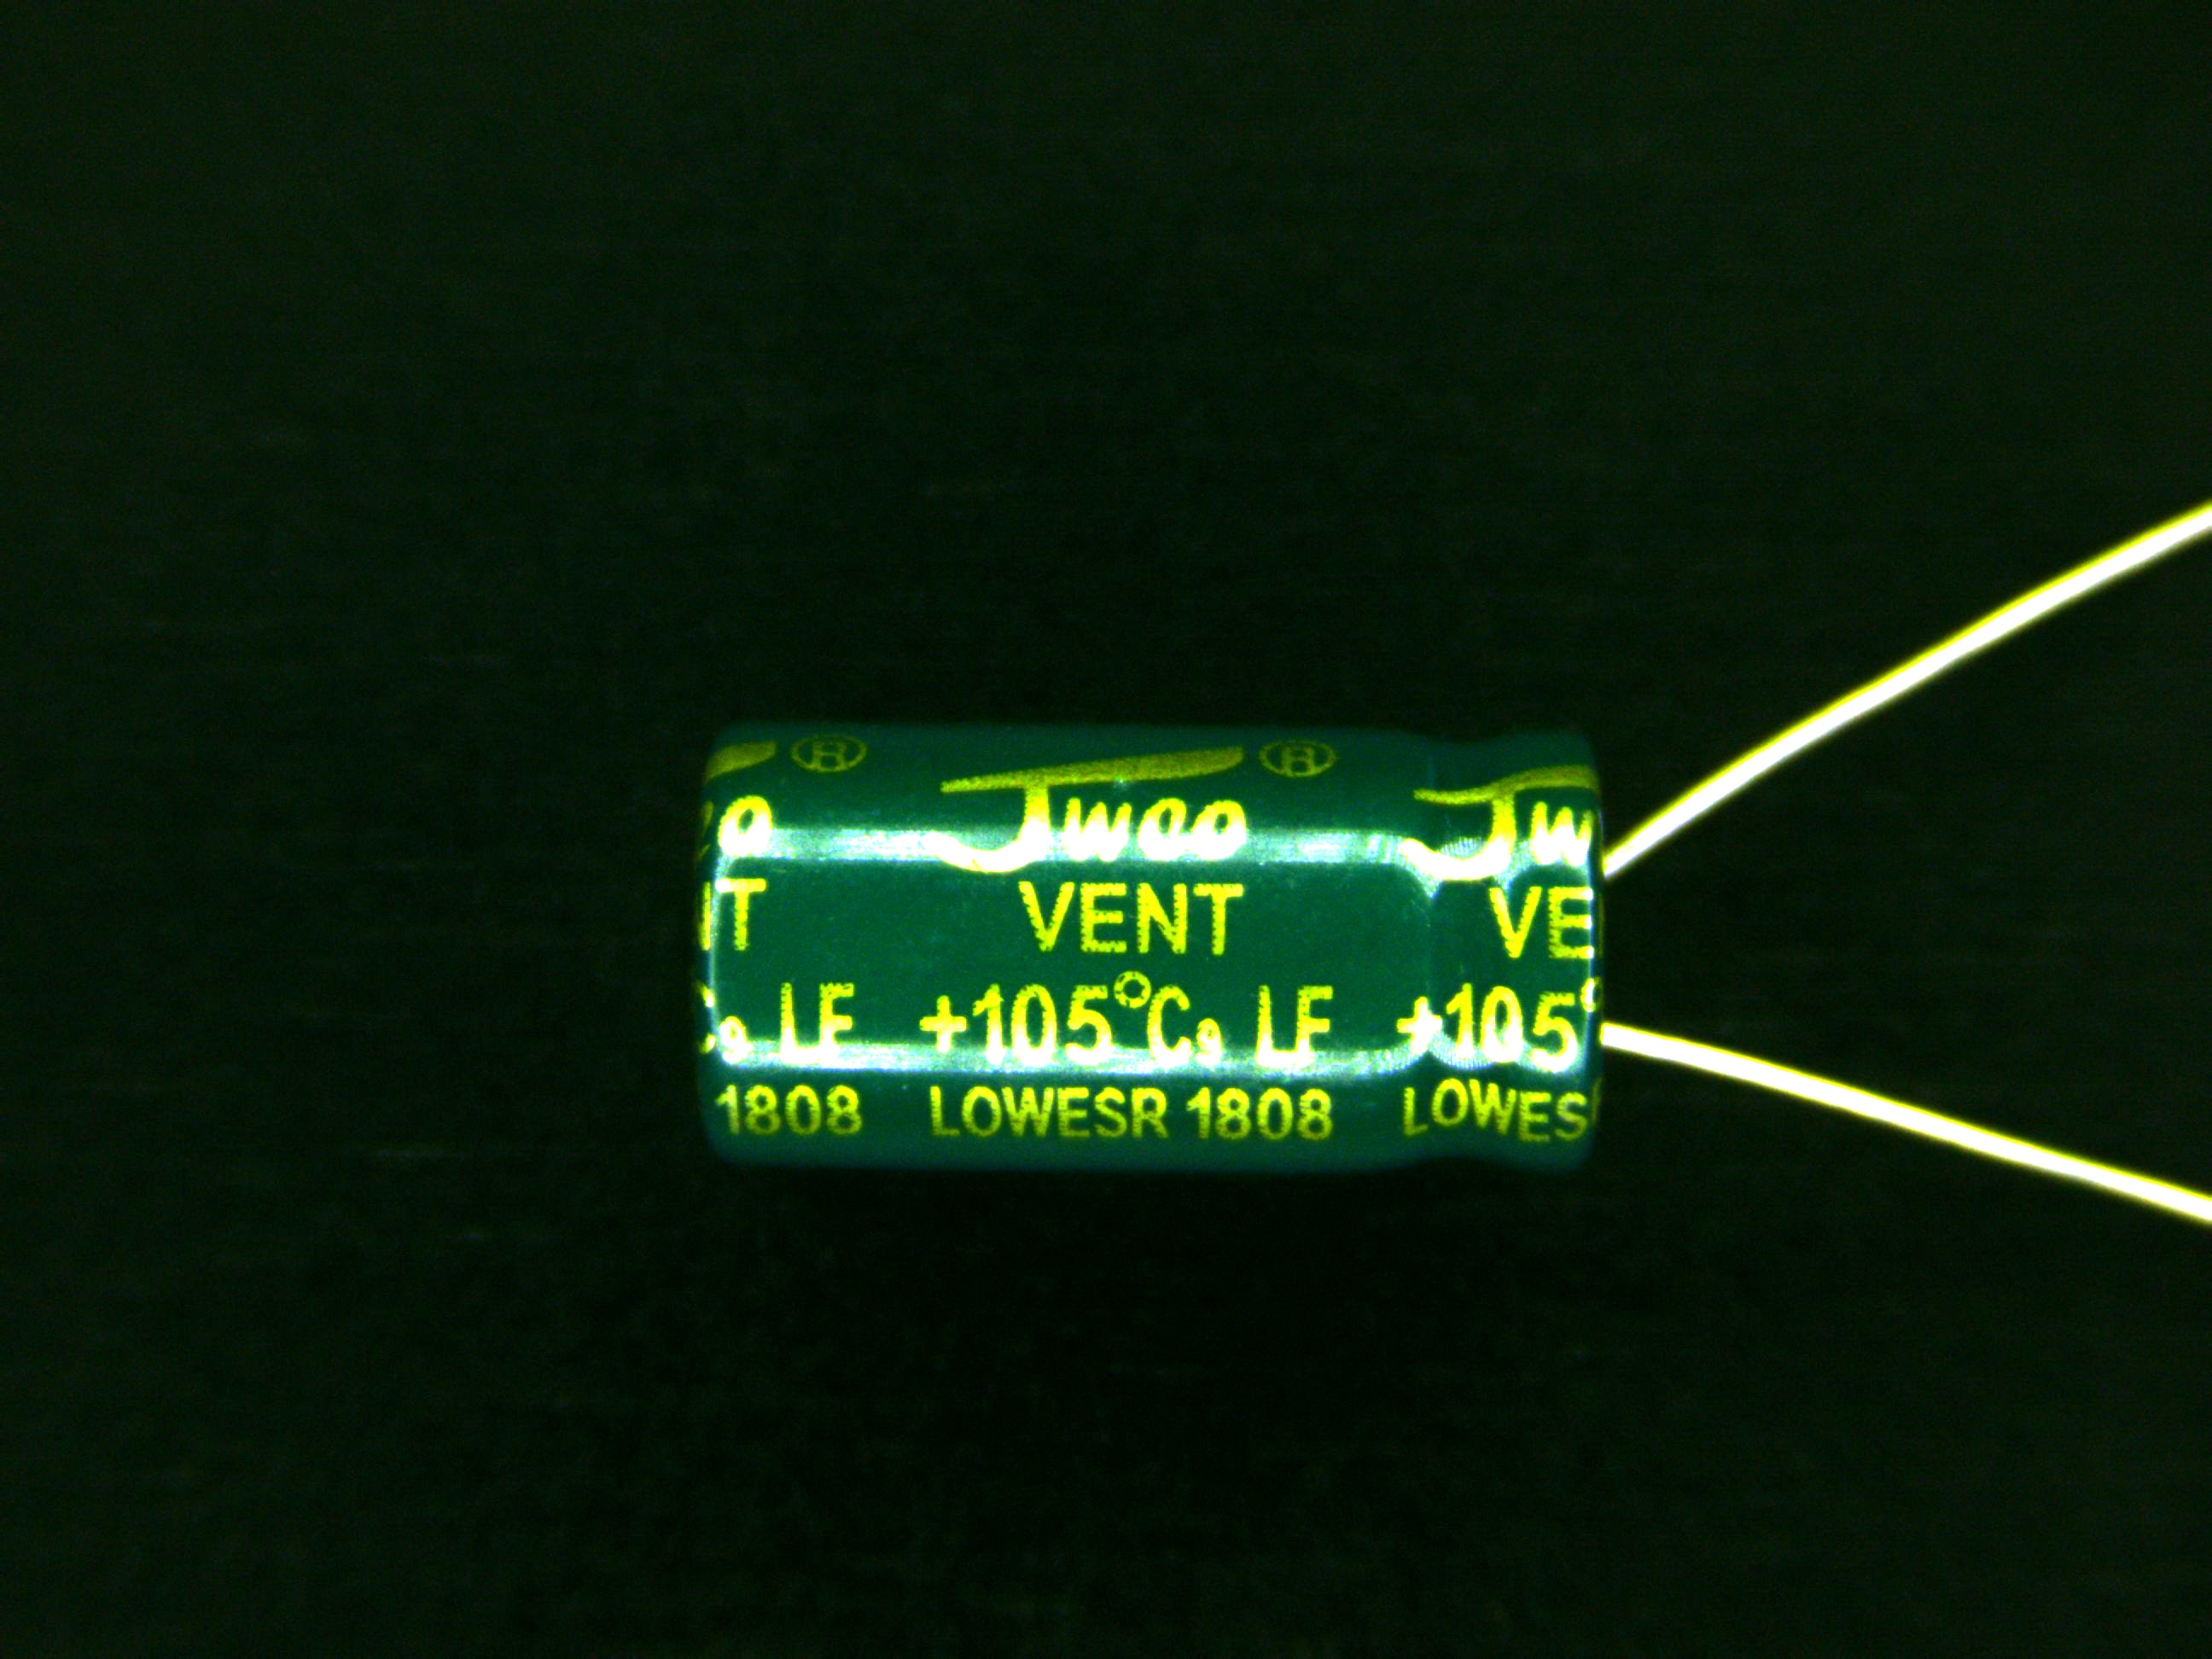c1: (695, 718, 1791, 1188)
